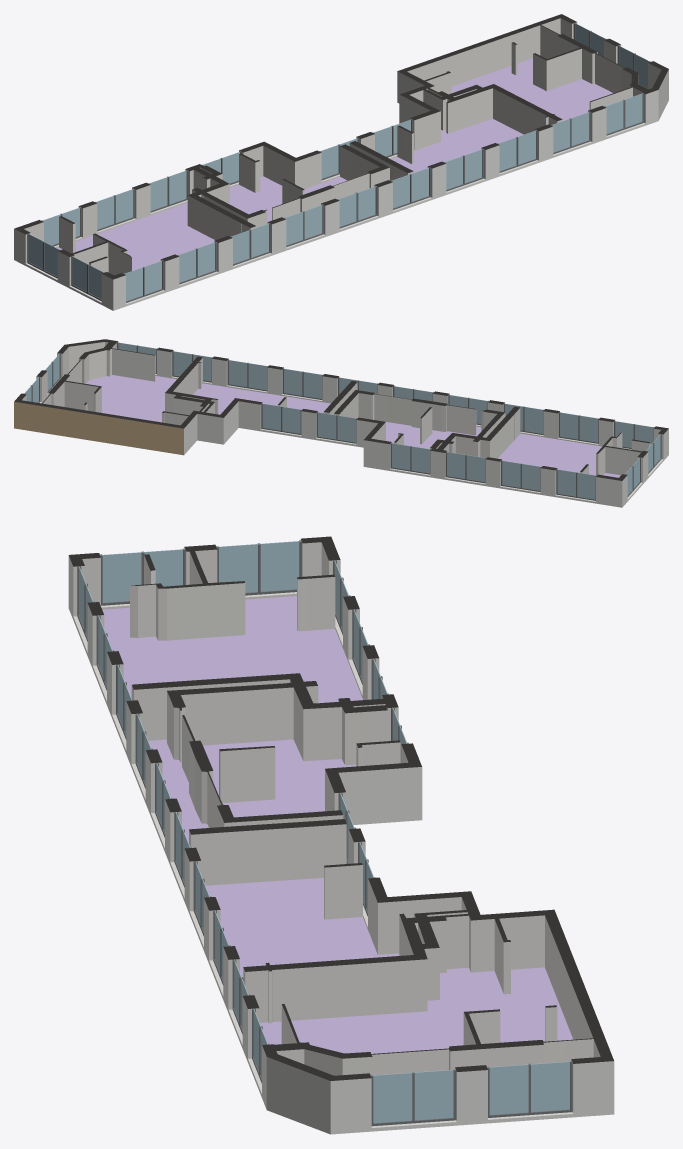
The model's file is cut-5.glb.
3 views of the same model, one above another, from view 1: azimuth 30°, elevation 25°; view 2: azimuth 150°, elevation 25°; view 3: azimuth 270°, elevation 25° (orthographic). The views are drawn at different scales.
Parts seen in each view (by area): view 1: cut floor; view 2: cut floor; view 3: cut floor.
Part boxes in pixels (left/top/right/bottom): cut floor: left=14, top=14, right=668, bottom=310; cut floor: left=14, top=339, right=668, bottom=507; cut floor: left=68, top=536, right=614, bottom=1134.
Size of the model in its own units: 32.79 by 1.52 by 13.89.
